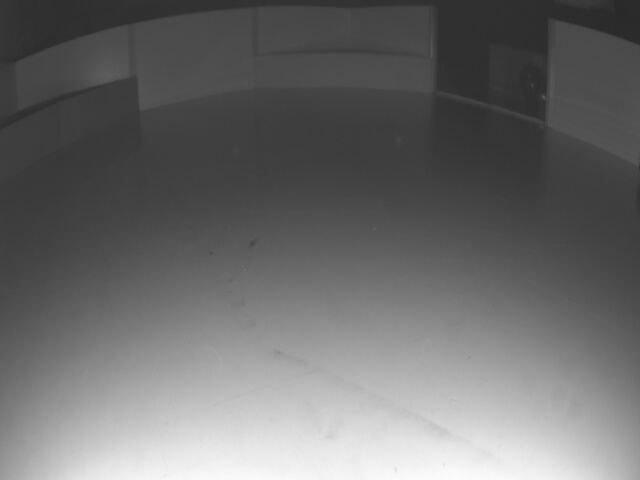Point: (0, 76, 138, 176), (256, 51, 434, 94)
